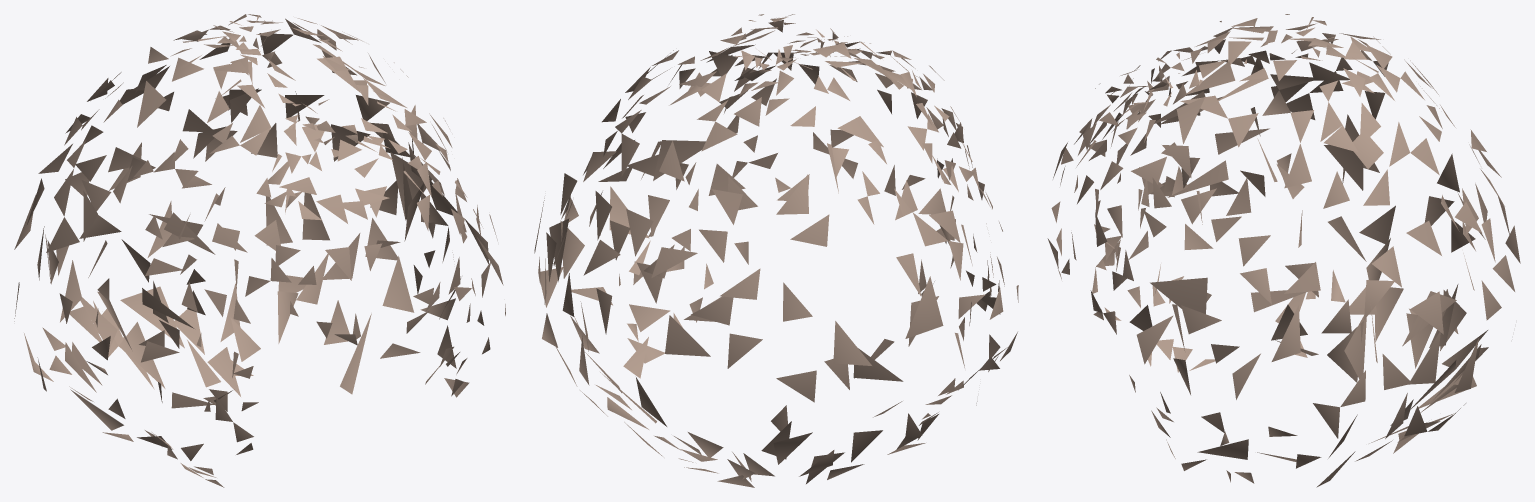
The model's file is female_hair_08_lod2.glb.
3 renders of one model, left to right at view 1: azimuth 30°, elevation 25°; view 2: azimuth 150°, elevation 25°; view 3: azimuth 270°, elevation 25°, orthographic.
Visible parts, largest first — view 1: female-hair-08; view 2: female-hair-08; view 3: female-hair-08.
Boxes of the visible parts, x1=… form: female-hair-08: x1=14, y1=14, x2=505, y2=487; female-hair-08: x1=534, y1=14, x2=1018, y2=487; female-hair-08: x1=1047, y1=14, x2=1520, y2=487.
Bounding box in the file's own units: 0.2366 × 0.208 × 0.2228.
